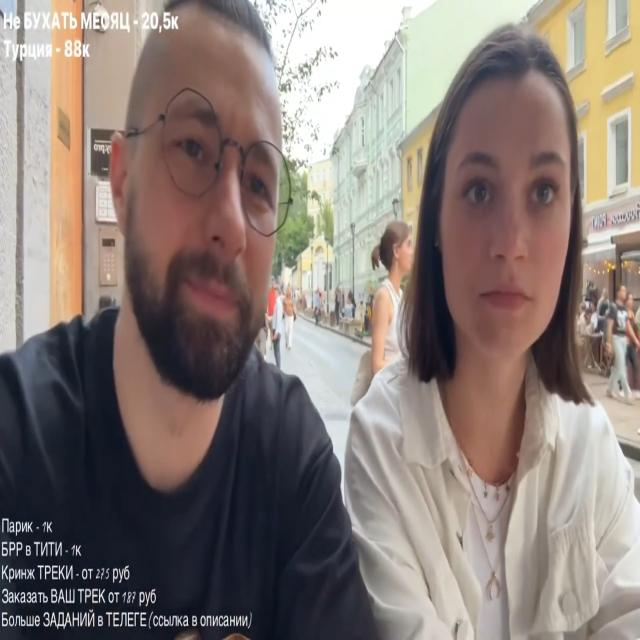Person: (0, 14, 369, 638), (333, 26, 640, 637), (360, 220, 415, 406), (598, 287, 638, 400)
